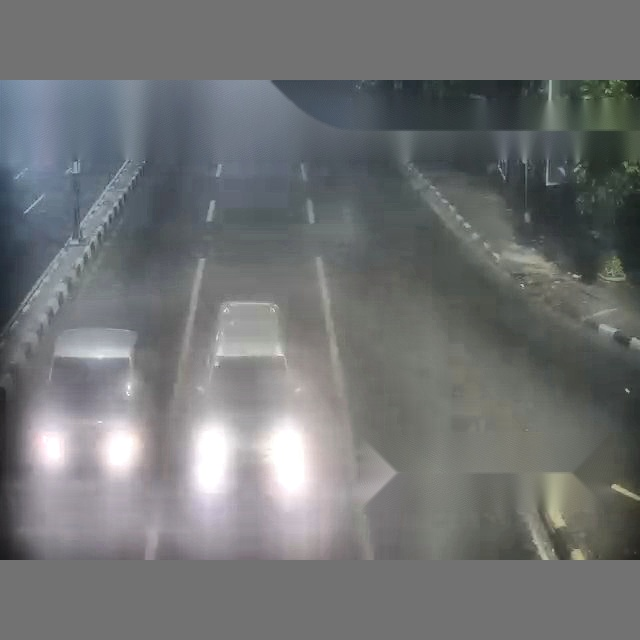Truk: (186, 106, 639, 558)
